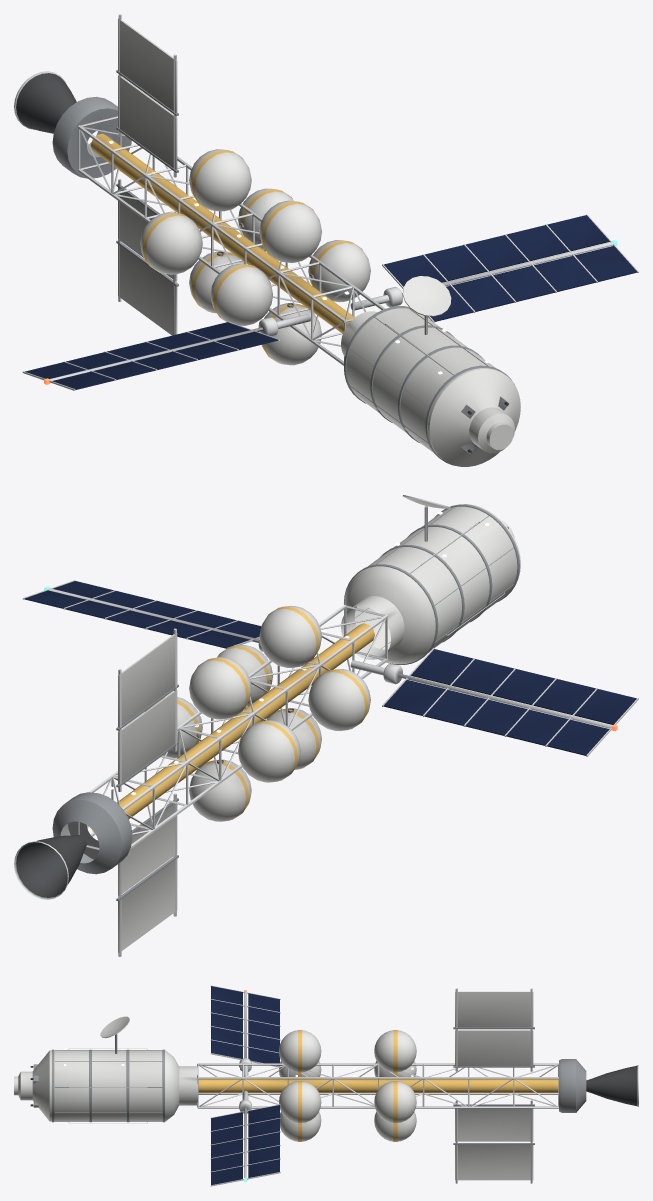
File: tern.glb
The picture shows the model from 3 angles, top to bottom: view 1: azimuth 30°, elevation 25°; view 2: azimuth 150°, elevation 25°; view 3: azimuth 270°, elevation 25°; orthographic projection. The views are drawn at different scales.
Visible parts, largest first — view 1: body_mesh; view 2: body_mesh; view 3: body_mesh.
Part boxes in pixels (bbox=[...]): body_mesh: bbox=[14, 14, 638, 466]; body_mesh: bbox=[14, 495, 638, 956]; body_mesh: bbox=[14, 985, 638, 1186].
Size of the model in its own units: 26.28 by 12.6 by 36.7.
